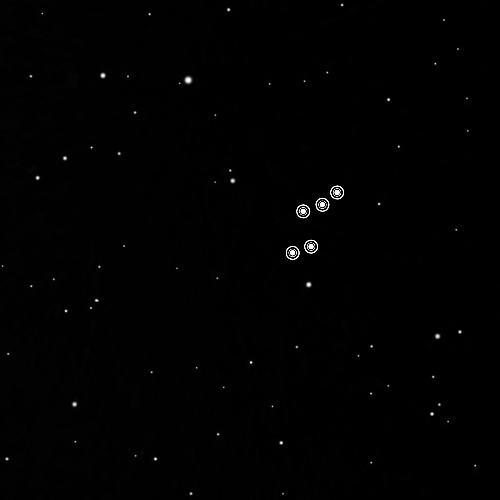lyra: (281, 173, 352, 268)
